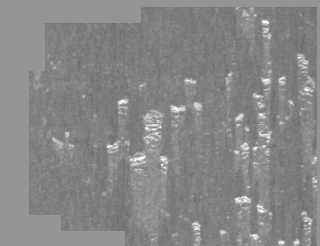oxl: (35, 10, 285, 236)
